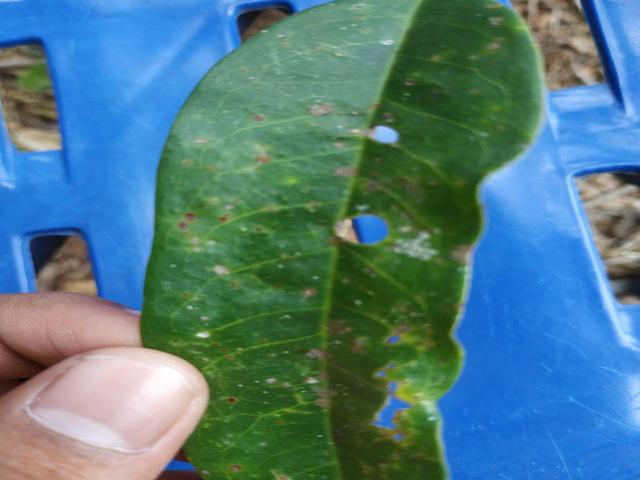blight spot: (366, 303, 428, 467), (326, 200, 397, 255), (364, 111, 412, 160)
